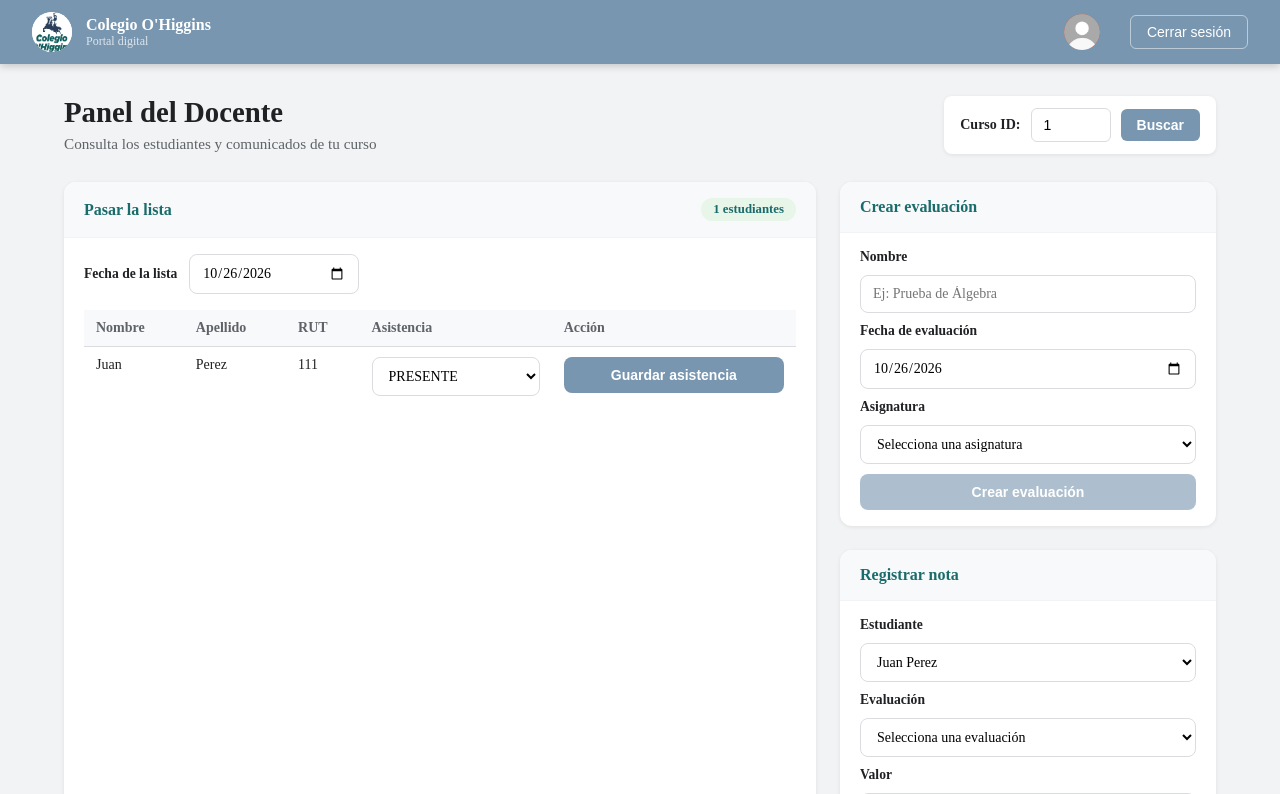
Scenario: DashboardDocente Component › debe cargar y mostrar los estudiantes del curso e interactuar con la búsqueda
Expected: the dropdown named "Asistencia de Juan Perez" is shown, x1=372 y1=357 x2=540 y2=396
Expected: the heading "Pasar la lista" is shown, x1=84 y1=200 x2=172 y2=218
Replace the text in the number field labelled "Curso ID:" with "2" at (1070, 125), box x1=1030 y1=108 x2=1110 y2=142
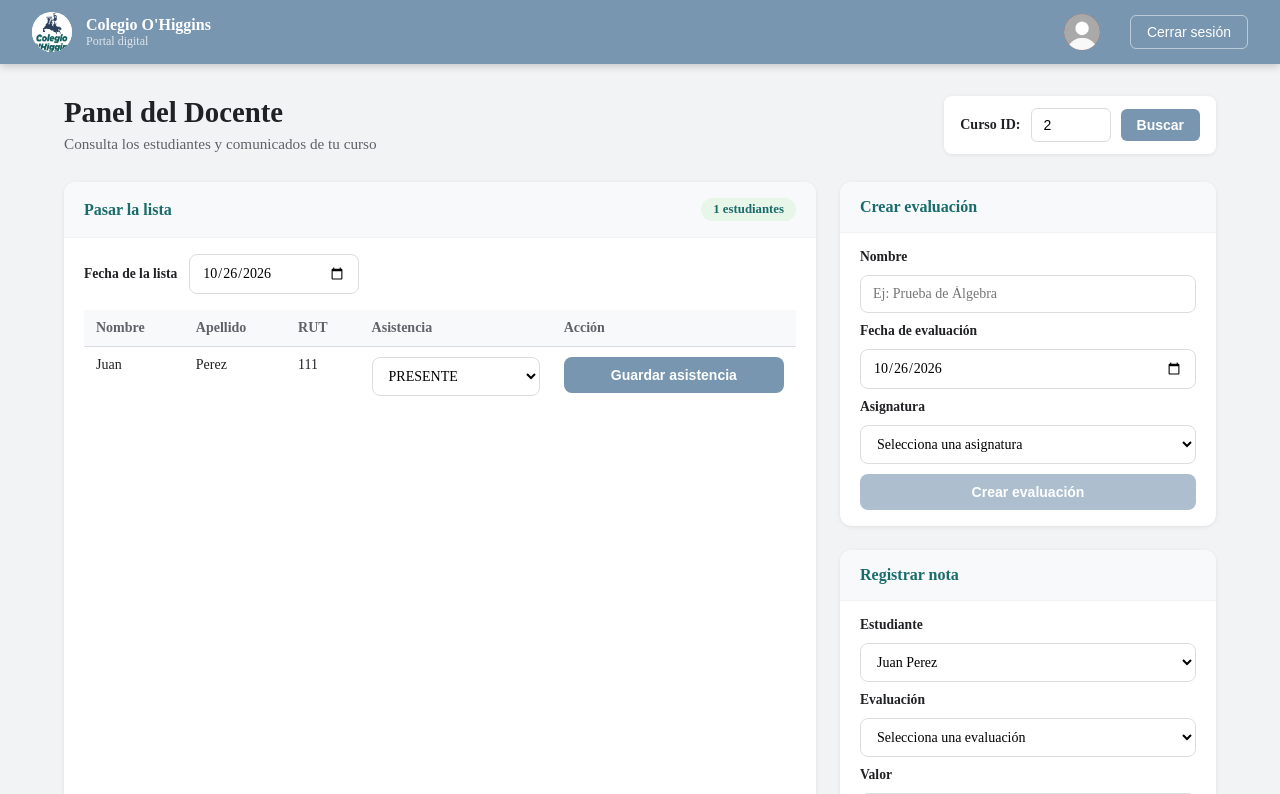
Click the button "Buscar".
click(1160, 125)  # box x1=1120 y1=109 x2=1200 y2=141
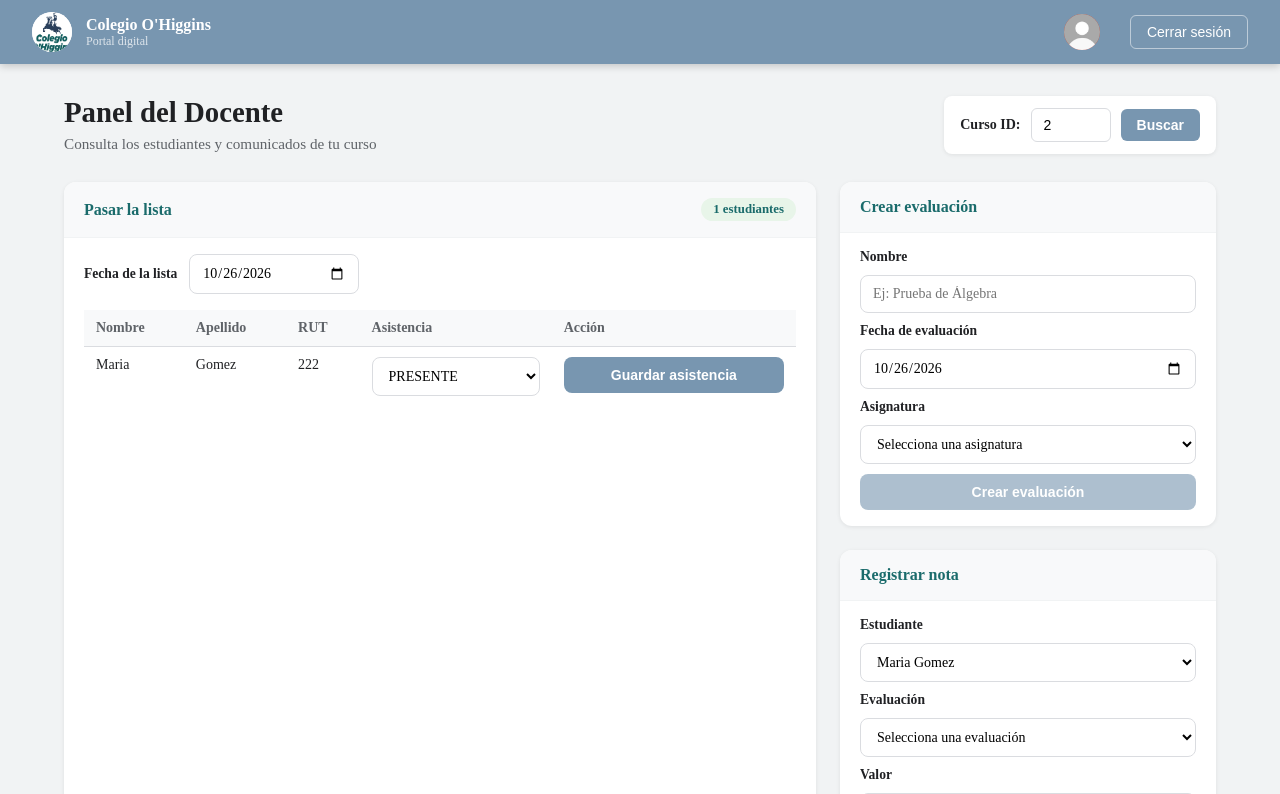
Result: the text "Maria" is shown at x1=84 y1=346 x2=184 y2=406
